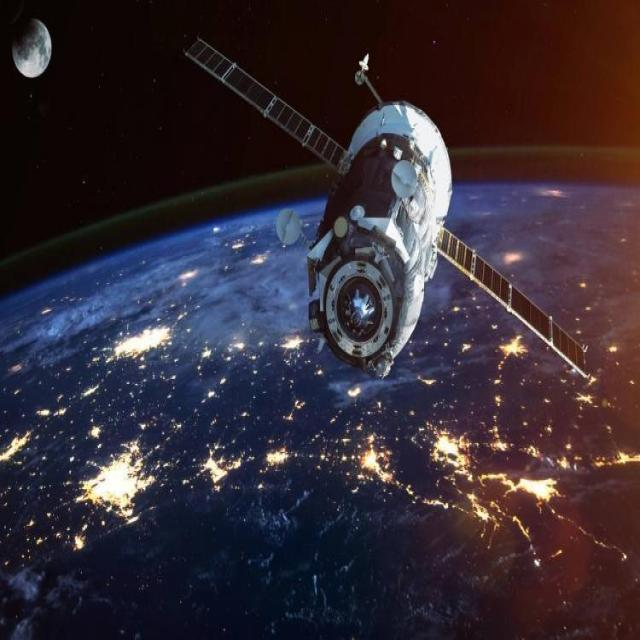medium_debris: (186, 38, 591, 378)
